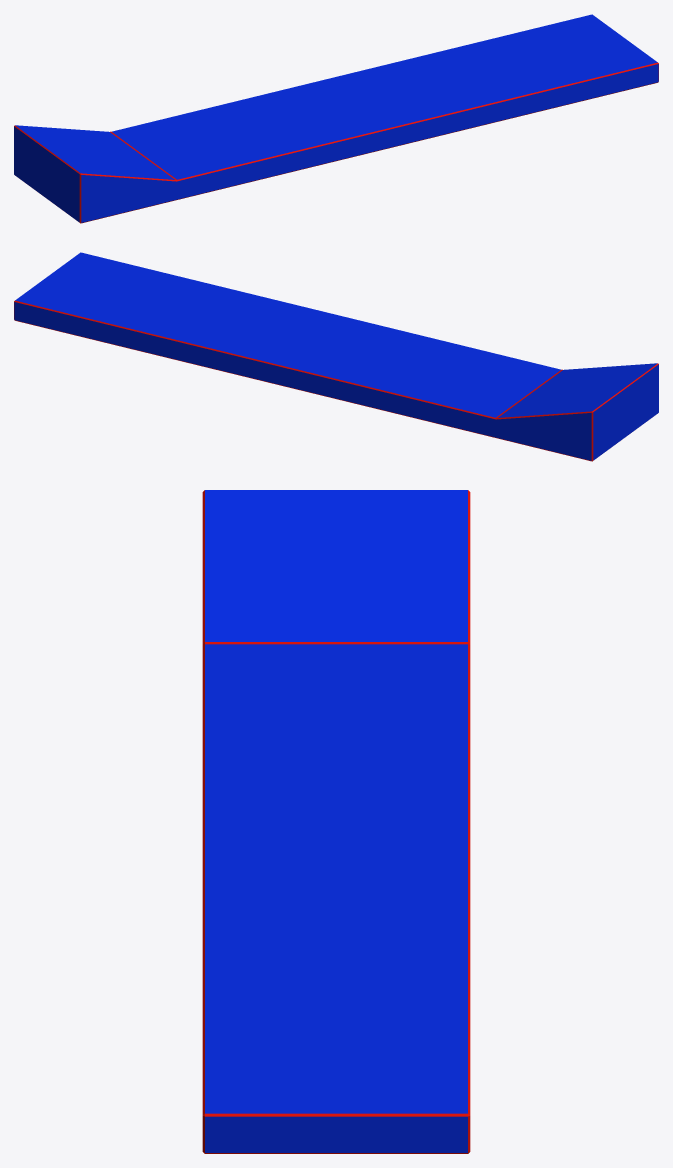
File: L2_Long_Ramp.fbx
3 views of the same model, one above another, from view 1: azimuth 30°, elevation 25°; view 2: azimuth 150°, elevation 25°; view 3: azimuth 270°, elevation 25° (orthographic). The views are drawn at different scales.
Visible parts, largest first — view 1: L2_Long_Ramp; view 2: L2_Long_Ramp; view 3: L2_Long_Ramp.
Boxes of the visible parts, <box> form: L2_Long_Ramp: <box>14,14,658,223</box>; L2_Long_Ramp: <box>14,252,658,461</box>; L2_Long_Ramp: <box>202,490,470,1153</box>.
Bounding box in the file's own units: 3000 × 249 × 600.
